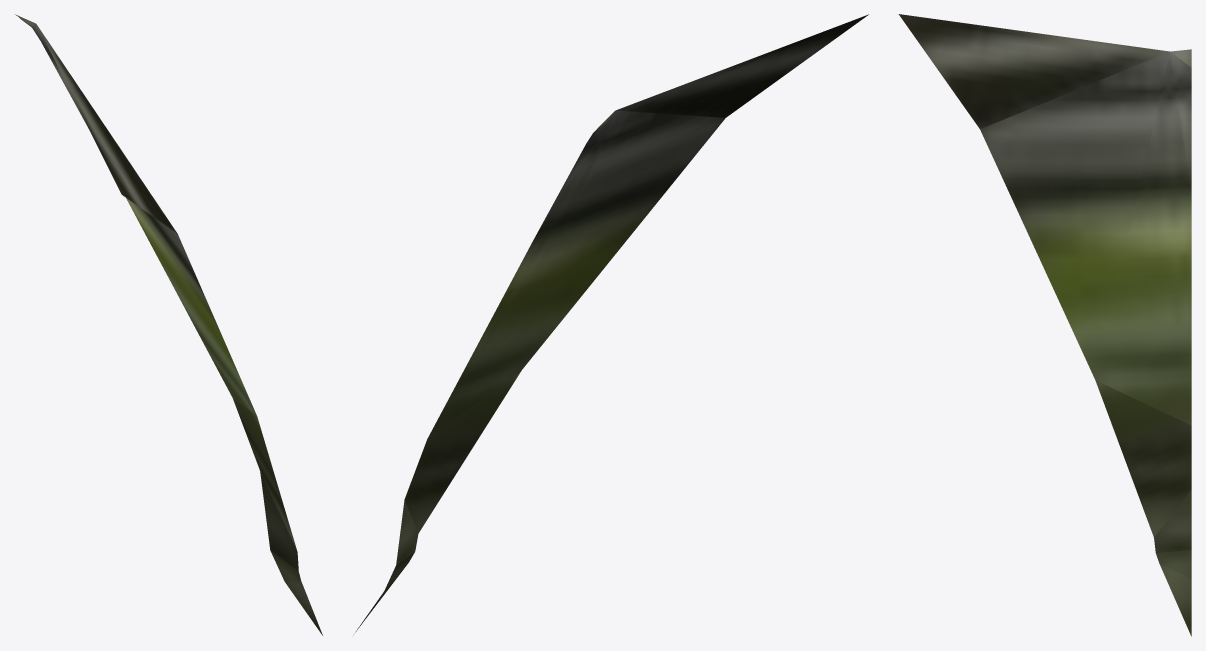
3 views of the same model, side by side, from view 1: azimuth 30°, elevation 25°; view 2: azimuth 150°, elevation 25°; view 3: azimuth 270°, elevation 25° (orthographic). The views are drawn at different scales.
Bounding box in the file's own units: 0.4932 × 0.7954 × 0.4372.
1 material, 1 textured.
